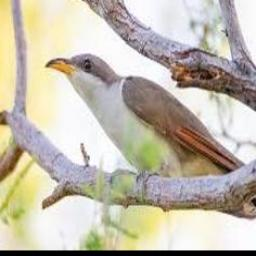Cuckoo: (46, 54, 247, 191)
